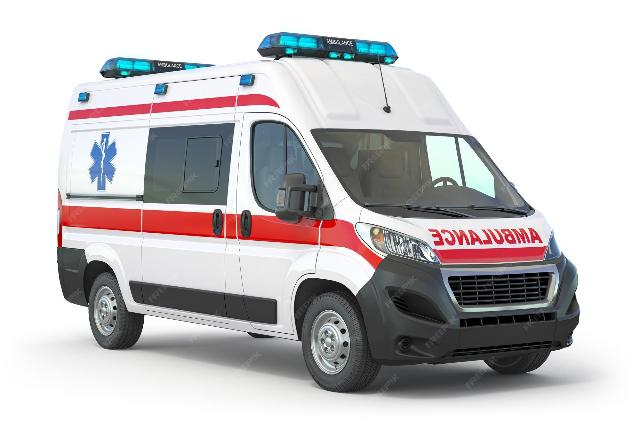ambulance: (51, 28, 620, 393)
